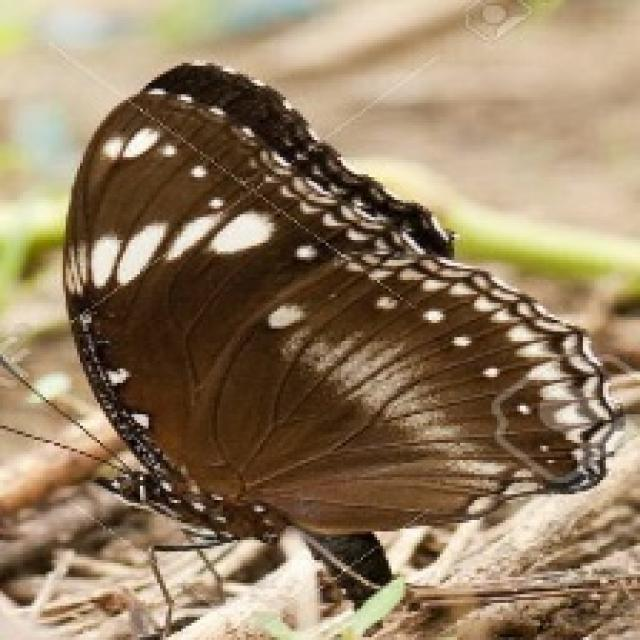butterfly: (0, 57, 626, 626)
